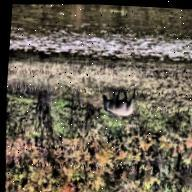boar: (89, 82, 154, 124)
